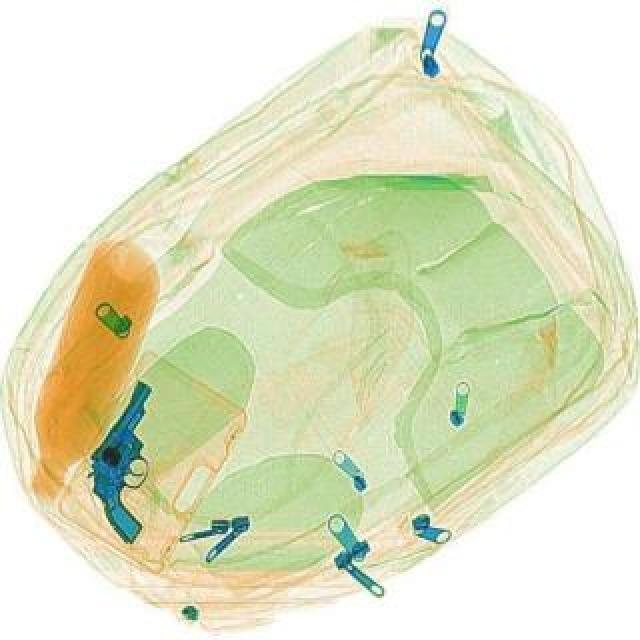gun: (56, 380, 212, 544)
